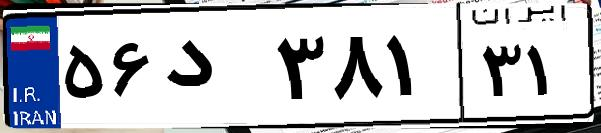1: (385, 28, 445, 110), (525, 38, 570, 115)
3: (270, 28, 330, 110), (475, 38, 525, 113)
5: (57, 26, 110, 100)
6: (110, 28, 158, 98)
8: (330, 28, 385, 110)
د: (158, 20, 270, 120)
